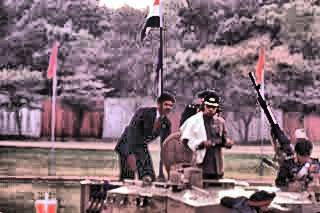tanks: (82, 182, 264, 213), (267, 187, 320, 213)
